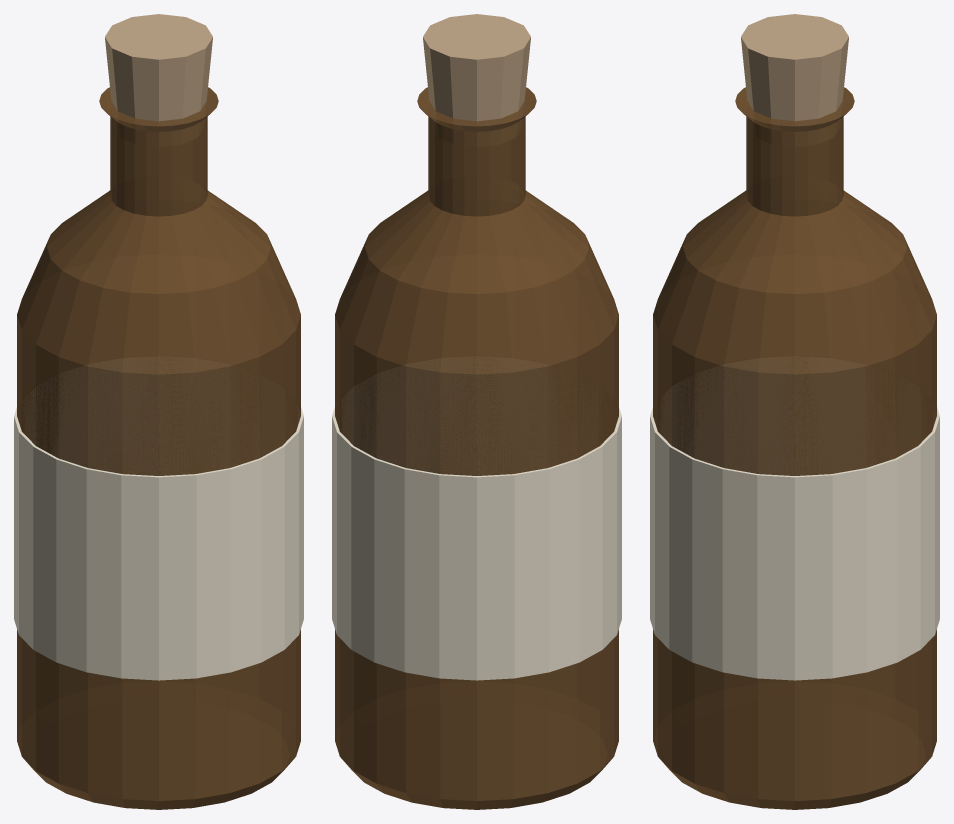
File: Prop_PoisonBottle.fbx
3 views of the same model, side by side, from view 1: azimuth 30°, elevation 25°; view 2: azimuth 150°, elevation 25°; view 3: azimuth 270°, elevation 25° (orthographic).
Visible parts, largest first — view 1: PoisonBottle_Glass, PoisonBottle_Label, PoisonBottle_Cork; view 2: PoisonBottle_Glass, PoisonBottle_Label, PoisonBottle_Cork; view 3: PoisonBottle_Glass, PoisonBottle_Label, PoisonBottle_Cork.
Part boxes in pixels (x1,y1,x2,y2): PoisonBottle_Glass: (17,87,300,809); PoisonBottle_Label: (14,357,303,680); PoisonBottle_Cork: (105,14,212,145); PoisonBottle_Glass: (335,87,618,809); PoisonBottle_Label: (332,357,621,680); PoisonBottle_Cork: (423,14,530,145); PoisonBottle_Glass: (653,87,936,809); PoisonBottle_Label: (650,357,939,680); PoisonBottle_Cork: (741,14,848,145).
Bounding box in the file's own units: 0.0776 × 0.212 × 0.0776.
